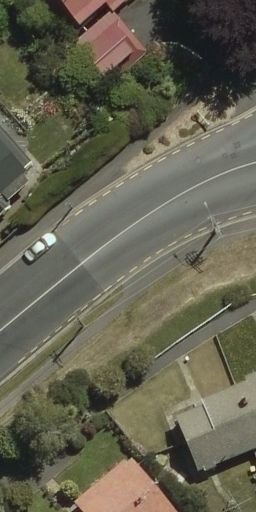DT: (199, 200, 228, 246), (69, 309, 90, 333)
